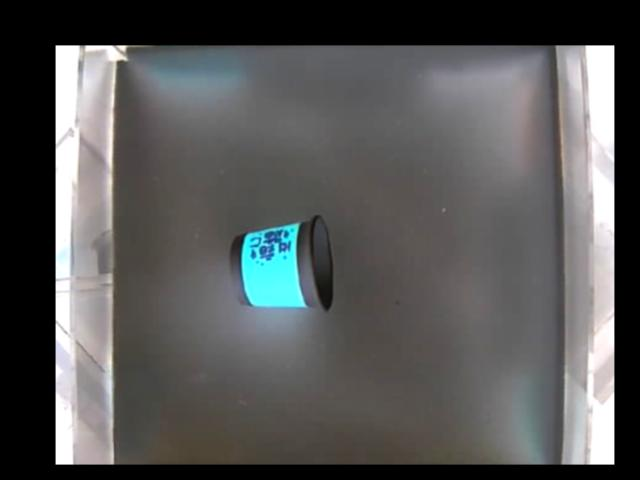Cup: (229, 216, 335, 315)
